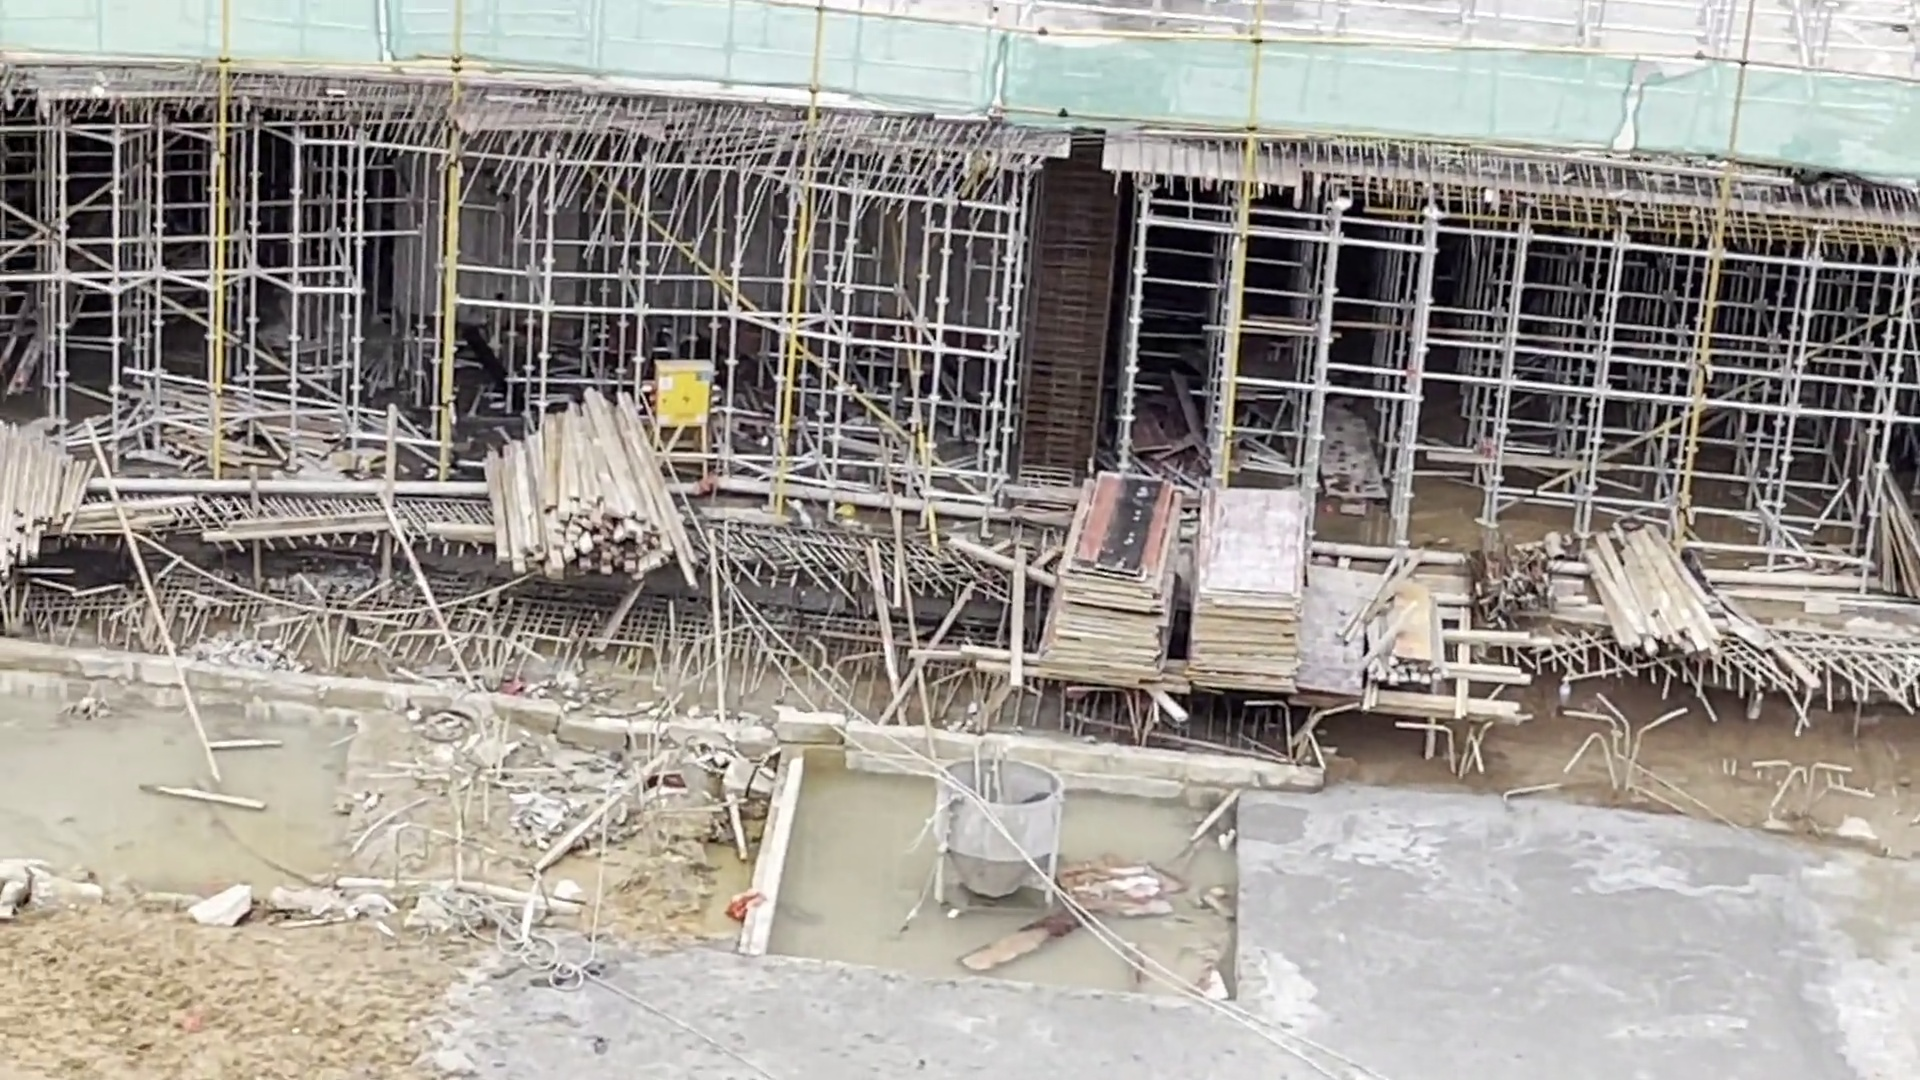board: (1042, 462, 1313, 703)
ebox: (647, 353, 715, 426)
wood: (473, 400, 709, 582), (1586, 524, 1733, 659)
